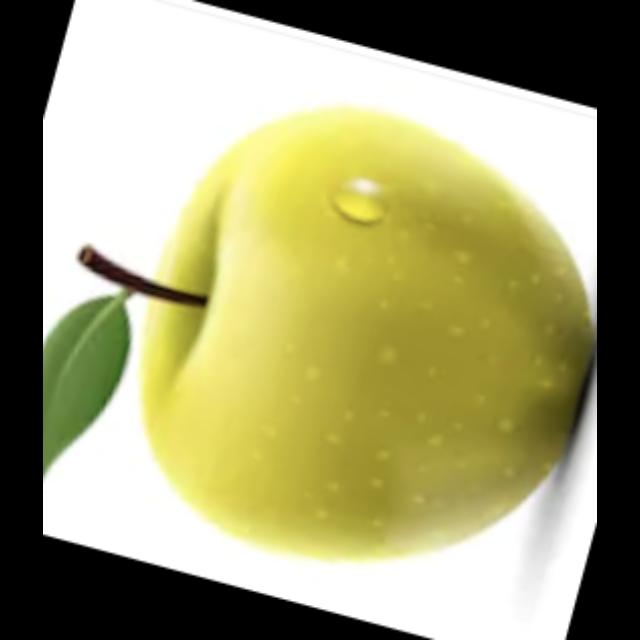Apel Segar: (132, 96, 598, 574)
